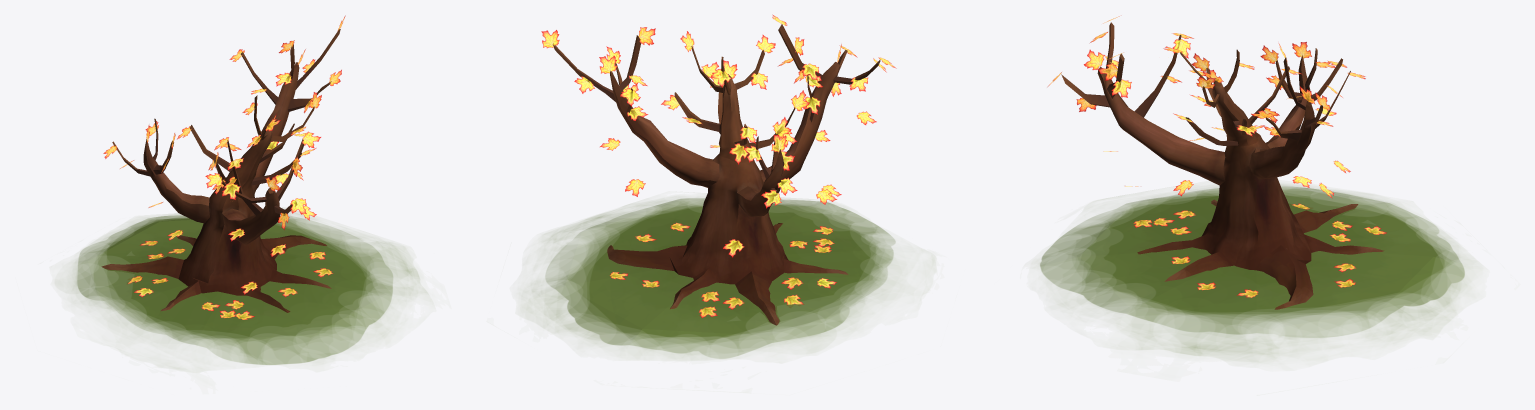
The model's file is autumn_tree.glb.
The picture shows the model from 3 angles, left to right: view 1: azimuth 30°, elevation 25°; view 2: azimuth 150°, elevation 25°; view 3: azimuth 270°, elevation 25°; orthographic projection. The views are drawn at different scales.
Parts seen in each view (by area): view 1: pSphere1, polySurface1; view 2: pSphere1, polySurface1; view 3: pSphere1, polySurface1.
Part boxes in pixels (<box>): pSphere1: <box>68,212,426,368</box>; polySurface1: <box>101,29,340,312</box>; pSphere1: <box>525,198,933,358</box>; polySurface1: <box>553,24,880,325</box>; pSphere1: <box>1039,184,1467,361</box>; polySurface1: <box>1061,22,1384,309</box>.
Bounding box in the file's own units: 12.02 × 6.92 × 12.02.
Materials: 4 (4 with a texture image).
